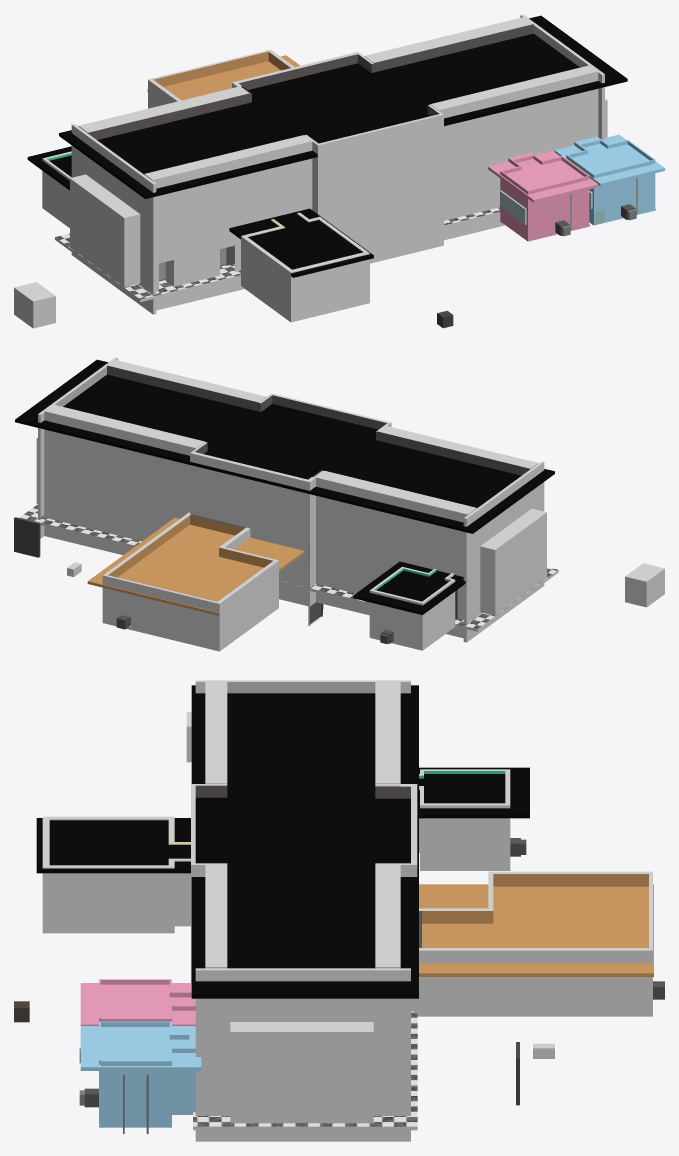
File: STAND 22_01_2025 Mall_Halle.fbx
3 renders of one model, top to bottom at view 1: azimuth 30°, elevation 25°; view 2: azimuth 150°, elevation 25°; view 3: azimuth 270°, elevation 25°, orthographic. The views are drawn at different scales.
Visible parts, largest first — view 1: Cube, Cube.090, Cube.006, Cube.052, Cube.091, Cube.003, Cube.002, Cube.094, Cube.318, Cube.012, Cube.134, Cube.093 (+4 smaller); view 2: Cube, Cube.090, Cube.012, Cube.093, Cube.052, Cube.011, Cube.092, Cube.134, Cube.007, Cube.306; view 3: Cube.090, Cube, Cube.012, Cube.093, Cube.053, Cube.006, Cube.091, Cube.002, Cube.011, Cube.092, Cube.318, Cube.094 (+2 smaller).
Part boxes in pixels (x1,y1,x2,y2): Cube: [71, 14, 604, 314]; Cube.090: [59, 15, 627, 198]; Cube.006: [241, 212, 369, 322]; Cube.052: [70, 174, 140, 287]; Cube.091: [229, 208, 373, 277]; Cube.003: [500, 152, 589, 241]; Cube.002: [566, 136, 655, 225]; Cube.094: [488, 151, 598, 202]; Cube.318: [554, 134, 664, 186]; Cube.012: [148, 49, 294, 108]; Cube.134: [55, 207, 500, 302]; Cube.093: [147, 55, 300, 100]; Cube: [38, 357, 544, 642]; Cube.090: [15, 359, 554, 533]; Cube.012: [102, 512, 278, 651]; Cube.093: [87, 517, 304, 615]; Cube.052: [480, 508, 546, 615]; Cube.011: [369, 566, 455, 650]; Cube.092: [353, 561, 465, 614]; Cube.134: [19, 504, 558, 631]; Cube.007: [625, 563, 664, 607]; Cube.306: [14, 517, 40, 557]; Cube.090: [191, 685, 418, 998]; Cube: [191, 680, 417, 1141]; Cube.012: [414, 871, 652, 1016]; Cube.093: [419, 884, 653, 976]; Cube.053: [230, 1022, 373, 1123]; Cube.006: [42, 816, 190, 933]; Cube.091: [36, 818, 190, 873]; Cube.002: [99, 1021, 195, 1127]; Cube.011: [419, 769, 510, 870]; Cube.092: [419, 767, 529, 818]; Cube.318: [80, 1026, 201, 1070]; Cube.094: [80, 983, 195, 1025].
Size of the model in its own units: 11562 by 2859 by 8308.
